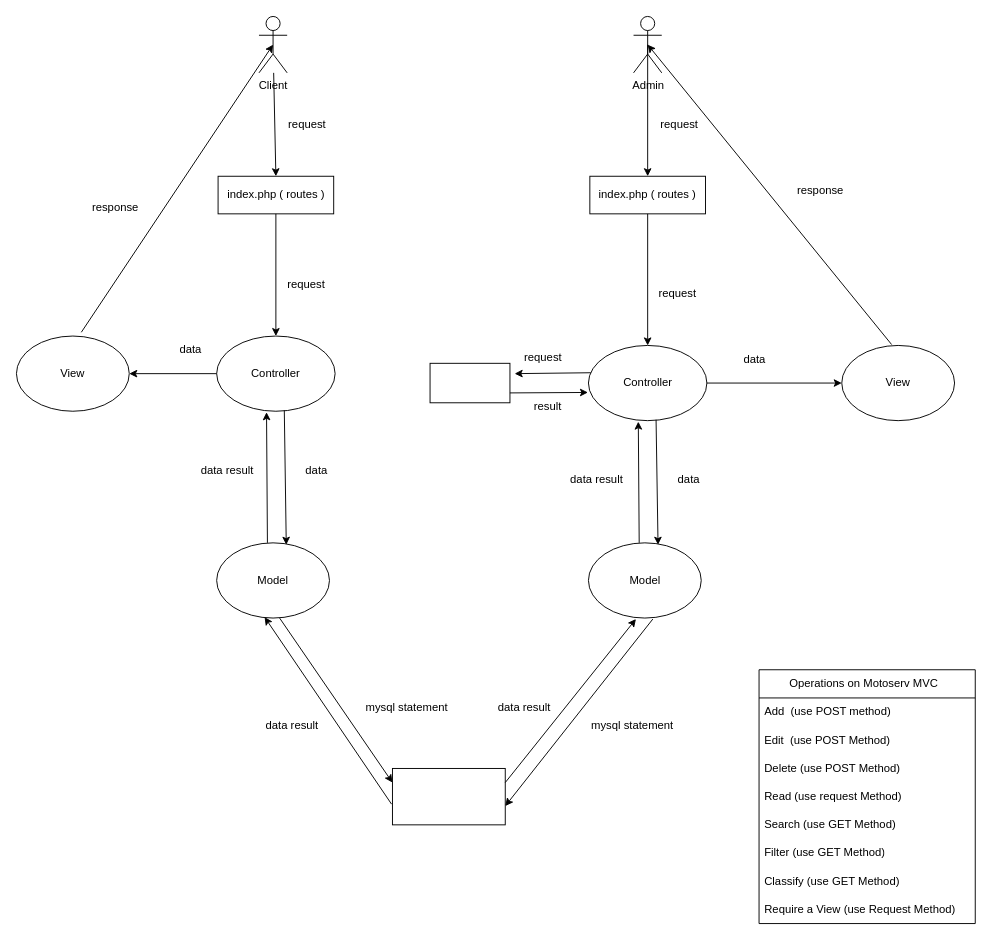
The diagram is 992 pixels wide and 940 high, and some of its shapes have lost their labels. The shapes that lost their labels are listed below. From the top down, each one's centre as x and y in pixels, then its label:
At point 469,382: "API".
At point 448,796: "mysql database".
